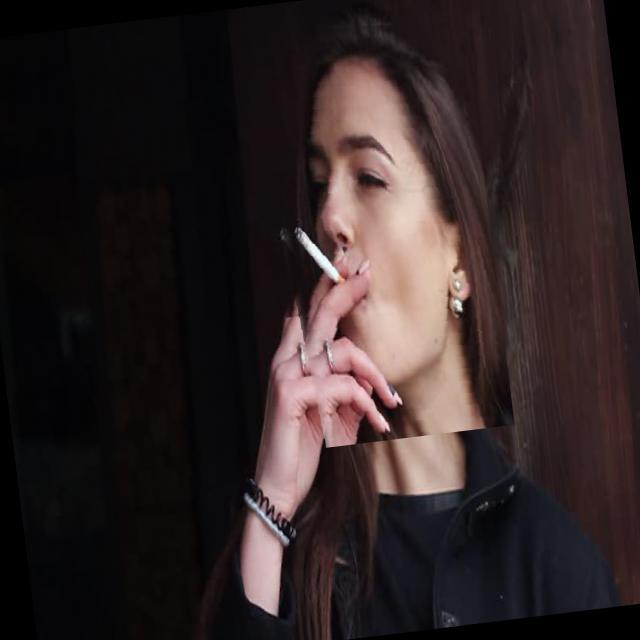cigarette: (264, 190, 349, 318)
